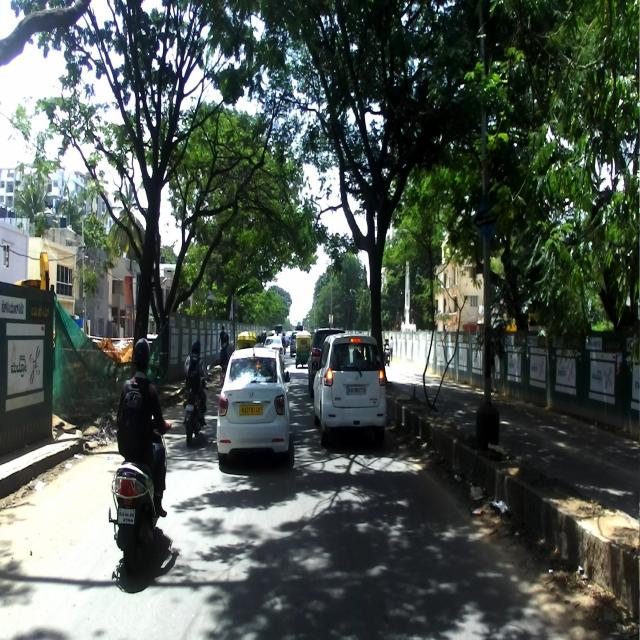Car_Hyundai: (216, 345, 290, 464)
Car_Maruti-Suzuki: (311, 331, 386, 448)
scooter: (106, 414, 174, 579)
